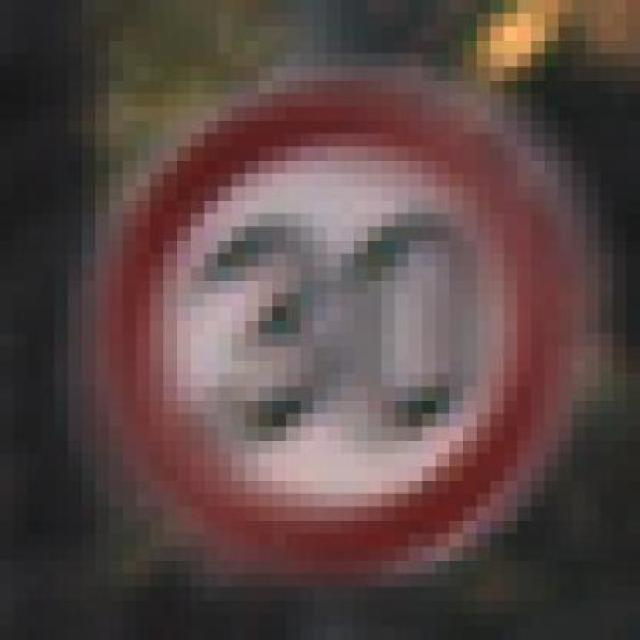Speed Limit 30 KMPh: (41, 53, 627, 587)
